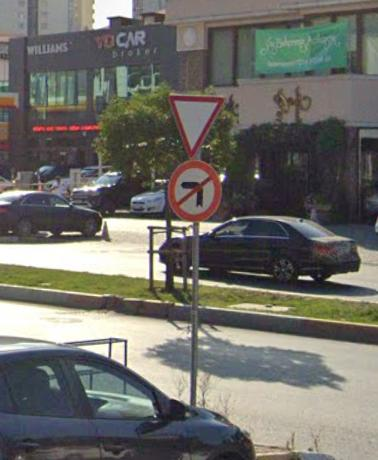leftturnsareforbidden: (167, 161, 223, 219)
